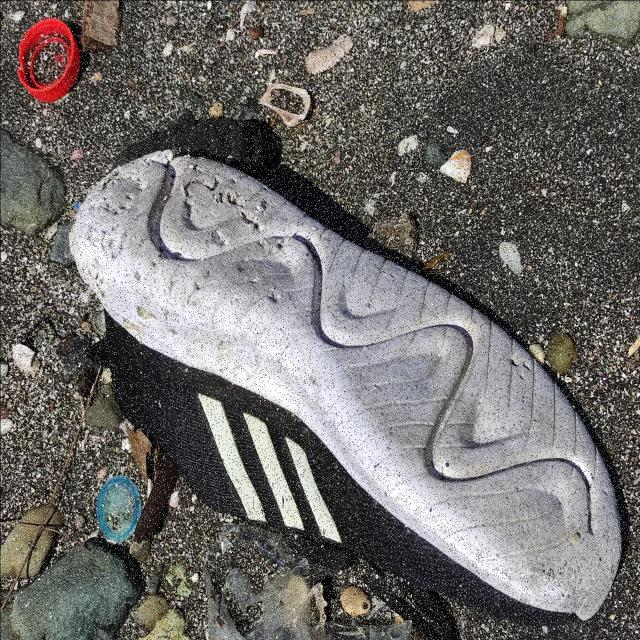plastic_waste: (15, 16, 83, 103), (96, 475, 141, 543)
rubber_waste: (68, 151, 631, 635)
